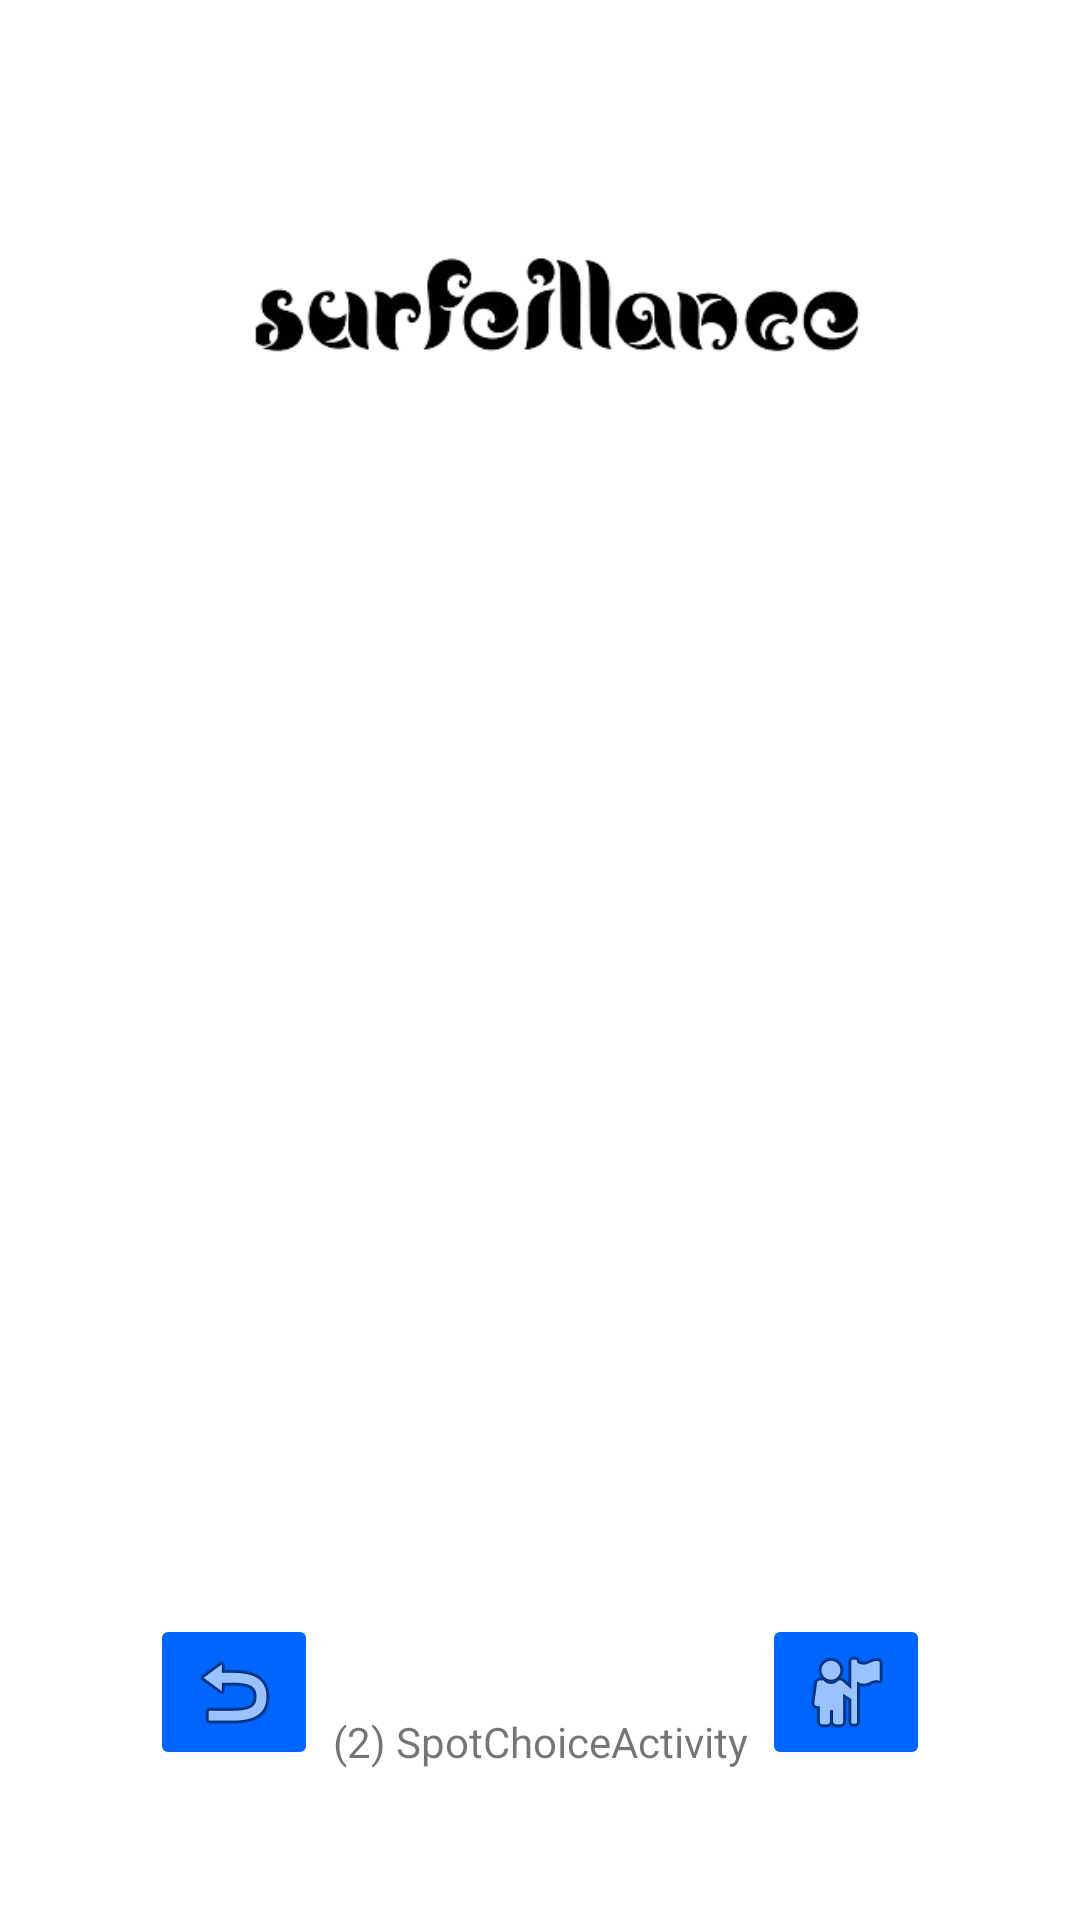

Screen size 1080×1920. Icon name, then its box in pixels as (x1, y1, x2, y2):
myplaces: (774, 1632, 918, 1752)
revert: (162, 1632, 306, 1752)
